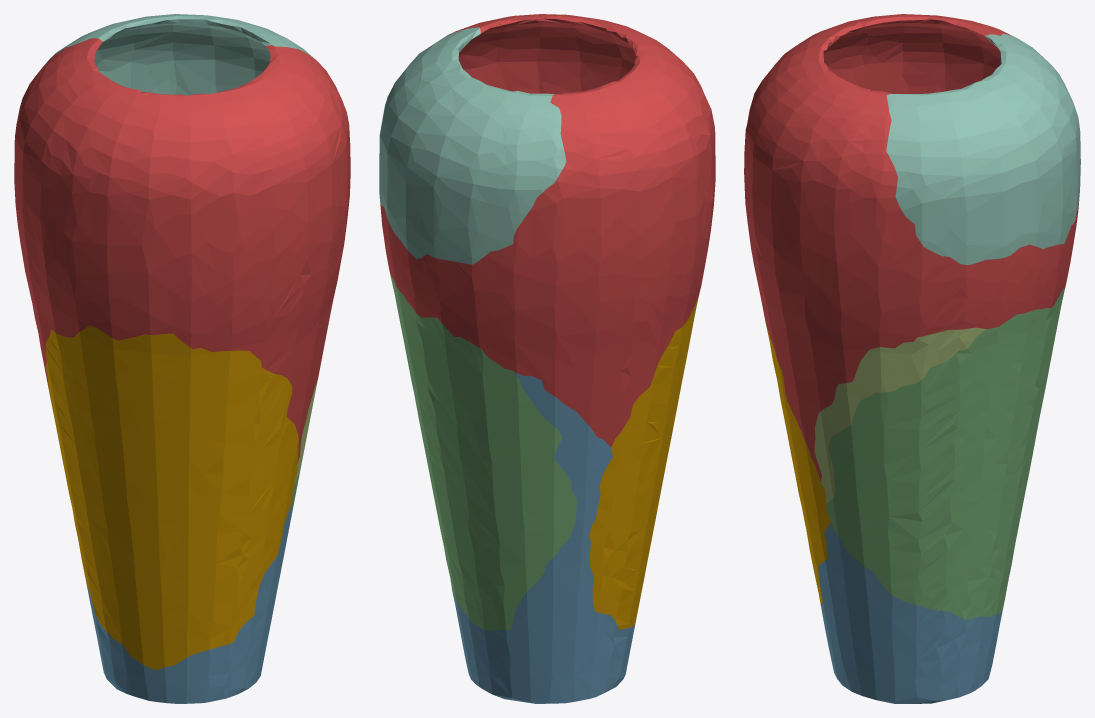
File: mode_5_6pcs.glb
3 renders of one model, left to right at view 1: azimuth 30°, elevation 25°; view 2: azimuth 150°, elevation 25°; view 3: azimuth 270°, elevation 25°, orthographic.
Visible parts, largest first — view 1: piece_1.obj, piece_0.obj, piece_4.obj, piece_2.obj; view 2: piece_1.obj, piece_3.obj, piece_4.obj, piece_2.obj, piece_0.obj; view 3: piece_1.obj, piece_3.obj, piece_4.obj, piece_2.obj, piece_5.obj, piece_0.obj.
Part boxes in pixels (<box>): piece_1.obj: <box>14,38,350,464</box>; piece_0.obj: <box>45,325,298,670</box>; piece_4.obj: <box>46,14,315,95</box>; piece_2.obj: <box>86,502,292,703</box>; piece_1.obj: <box>380,14,715,447</box>; piece_3.obj: <box>390,275,577,631</box>; piece_4.obj: <box>379,27,566,264</box>; piece_2.obj: <box>452,371,635,703</box>; piece_0.obj: <box>589,297,698,629</box>; piece_1.obj: <box>744,14,1079,480</box>; piece_3.obj: <box>826,287,1064,619</box>; piece_4.obj: <box>886,33,1080,264</box>; piece_2.obj: <box>818,522,1005,703</box>; piece_5.obj: <box>814,327,986,503</box>; piece_0.obj: <box>765,320,830,612</box>.
Size of the model in its own units: 0.4943 by 1 by 0.4946.
